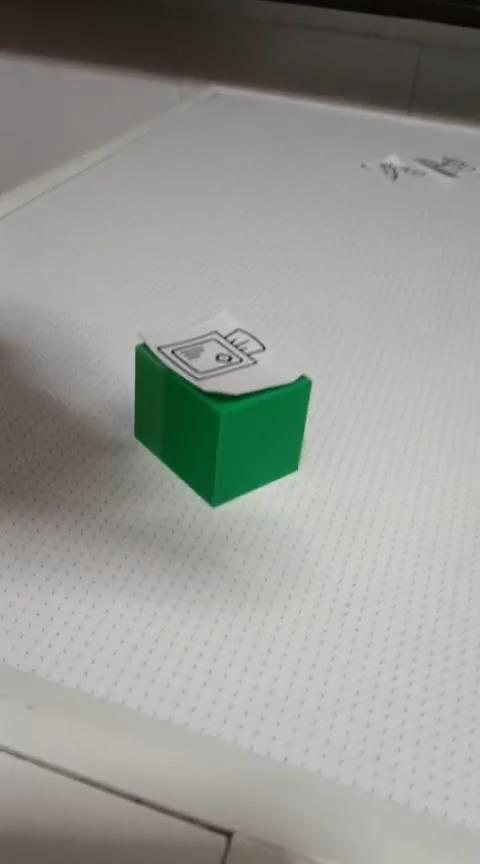Gauze: (132, 308, 313, 508)
